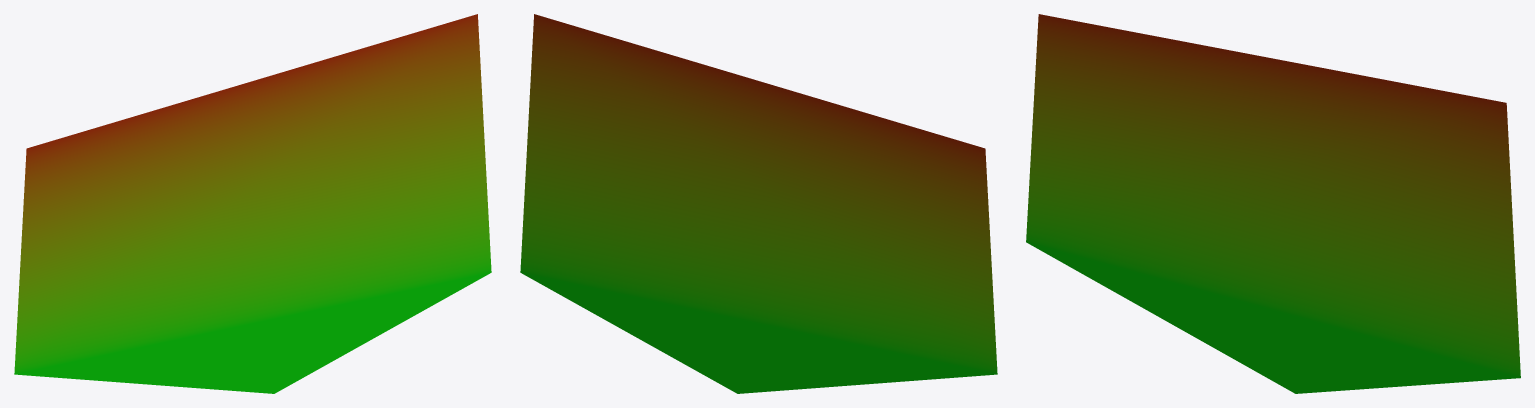
File: Aloe Vera_LOD4_Var7_ve4tbbrha.fbx
3 renders of one model, left to right at view 1: azimuth 30°, elevation 25°; view 2: azimuth 150°, elevation 25°; view 3: azimuth 330°, elevation 25°, orthographic. The views are drawn at different scales.
Visible parts, largest first — view 1: _awzv_Var7_LOD4; view 2: _awzv_Var7_LOD4; view 3: _awzv_Var7_LOD4.
Boxes of the visible parts, x1,y1,x2,y2 form: _awzv_Var7_LOD4: (14, 14, 491, 393); _awzv_Var7_LOD4: (520, 14, 997, 393); _awzv_Var7_LOD4: (1026, 14, 1520, 393).
Size of the model in its own units: 63.7 by 42.14 by 7.7e-06.
